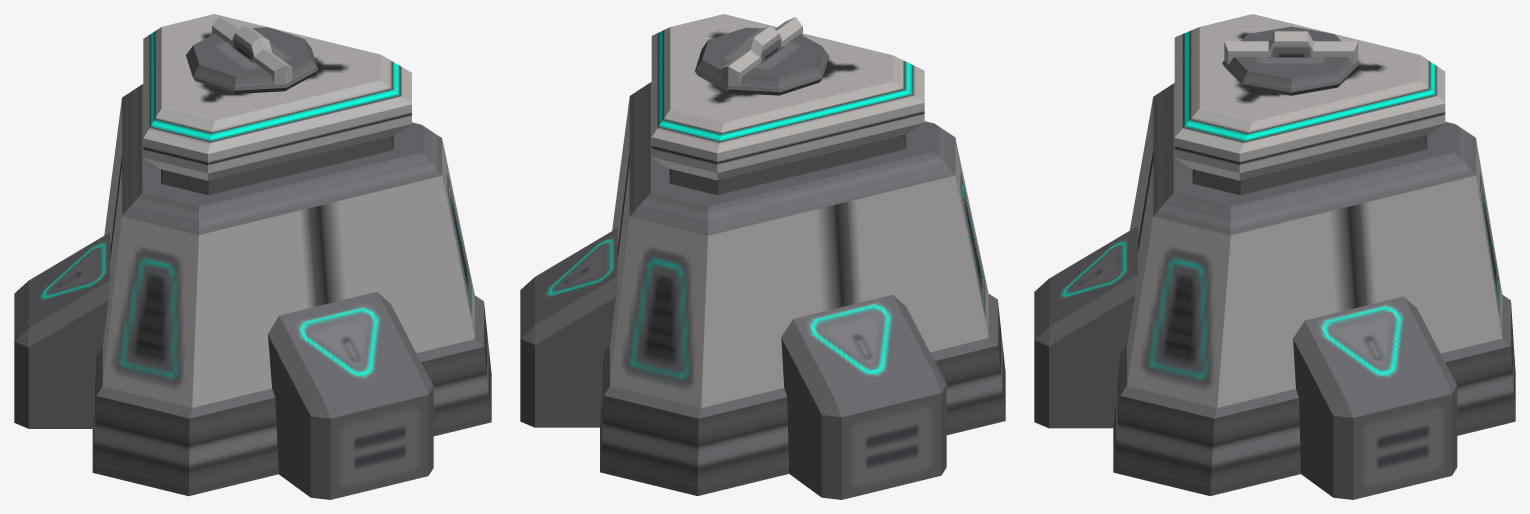
File: SM_Prop_Power_Terminal_01.fbx
The picture shows the model from 3 angles, left to right: view 1: azimuth 30°, elevation 25°; view 2: azimuth 150°, elevation 25°; view 3: azimuth 270°, elevation 25°; orthographic projection.
Visible parts, largest first — view 1: SM_Prop_Power_Terminal_01; view 2: SM_Prop_Power_Terminal_01; view 3: SM_Prop_Power_Terminal_01.
Part boxes in pixels (box(x1,y1,x2,y2)): SM_Prop_Power_Terminal_01: box(14, 14, 491, 499); SM_Prop_Power_Terminal_01: box(520, 14, 1005, 499); SM_Prop_Power_Terminal_01: box(1034, 14, 1515, 499).
Bounding box in the file's own units: 79.67 × 66.83 × 79.53.
